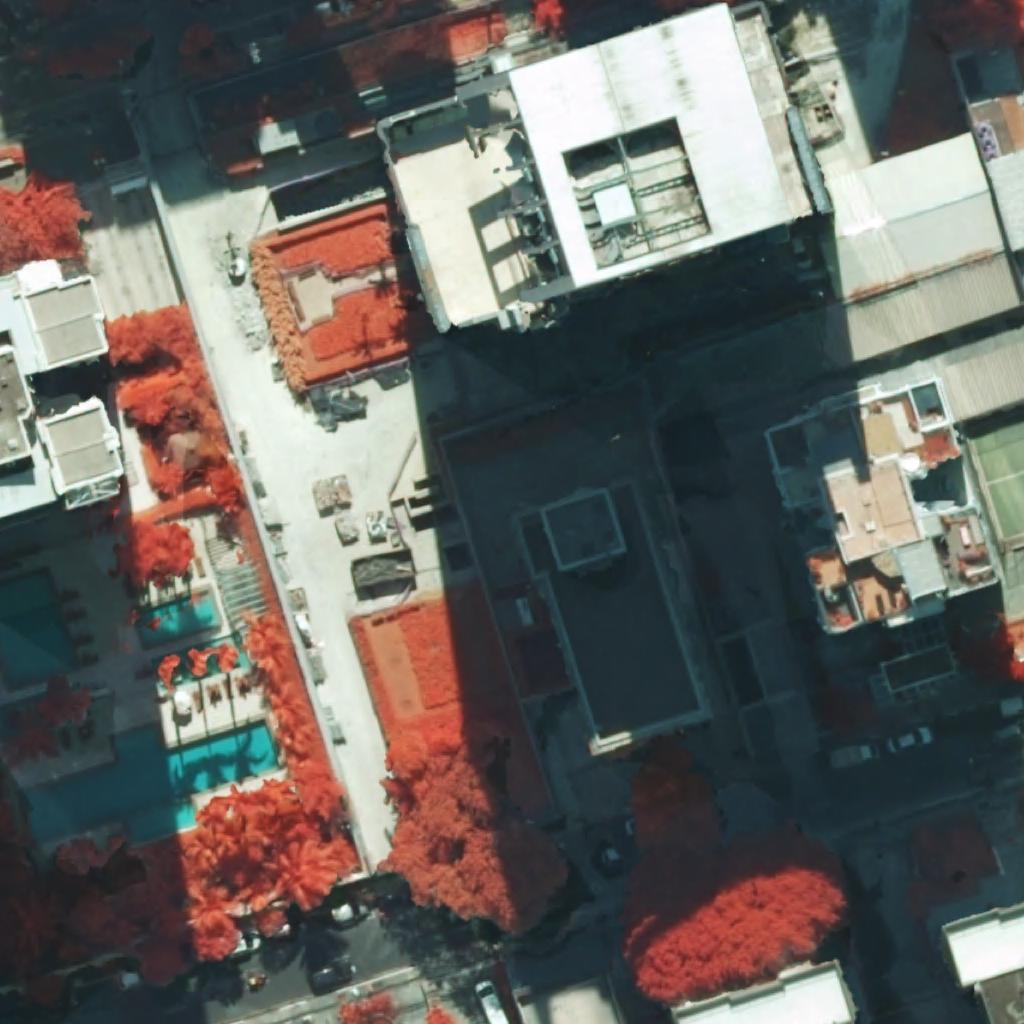pool: (18, 718, 281, 844), (0, 568, 79, 692), (136, 590, 218, 648)
